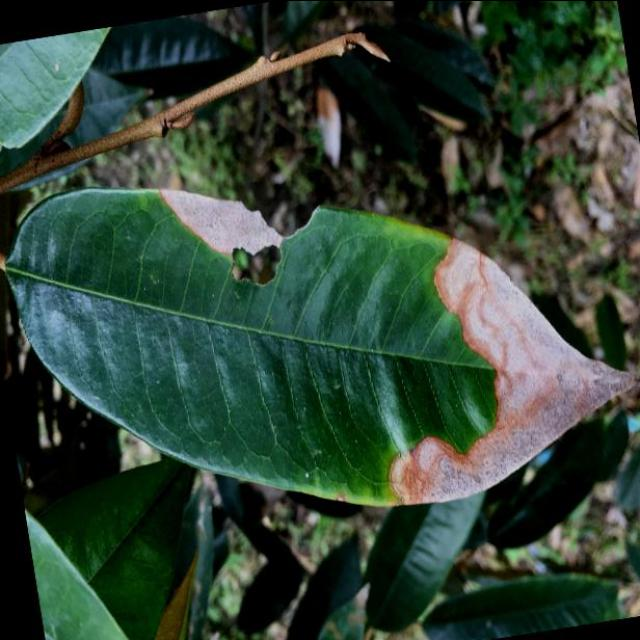Leaf Blight: (0, 97, 640, 572)
